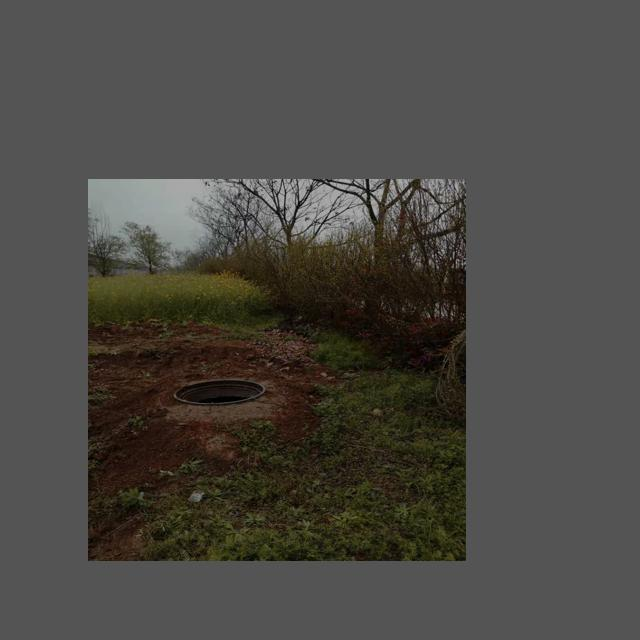lose: (176, 374, 277, 407)
